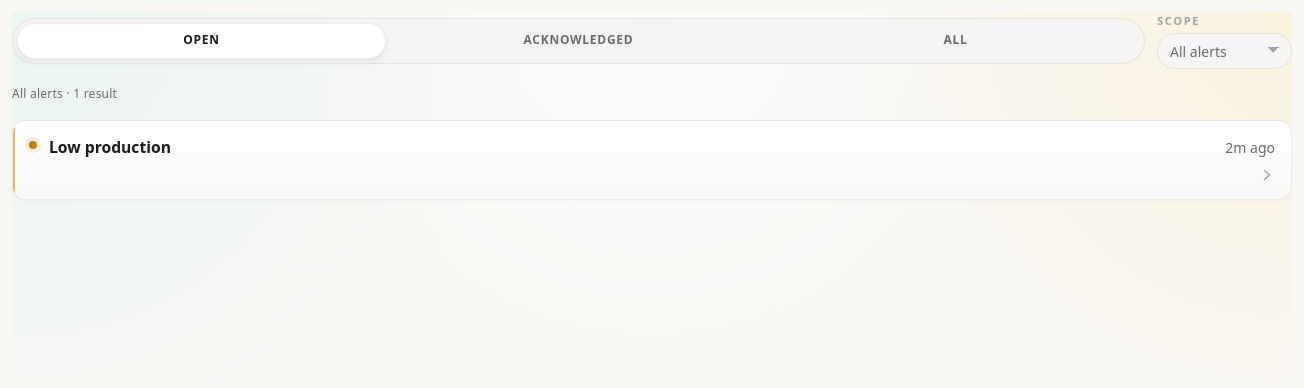
Test: AlertCenter › acknowledges an alert successfully and keeps the change after refetch
Click the element with test id "alert-card-201" at point(652, 160), box [12,120,1292,200]
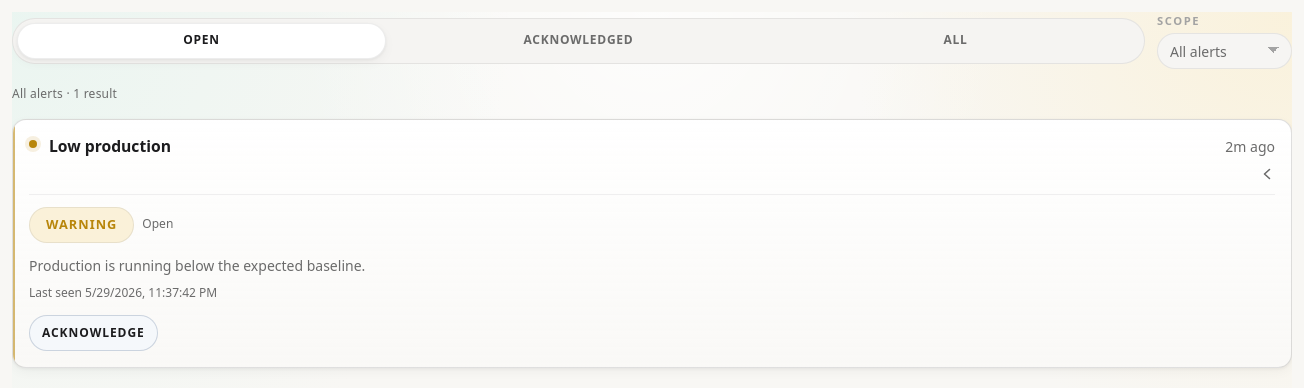
Click the button with test id "acknowledge-submit-button" at point(93, 333), box [29,315,158,351]
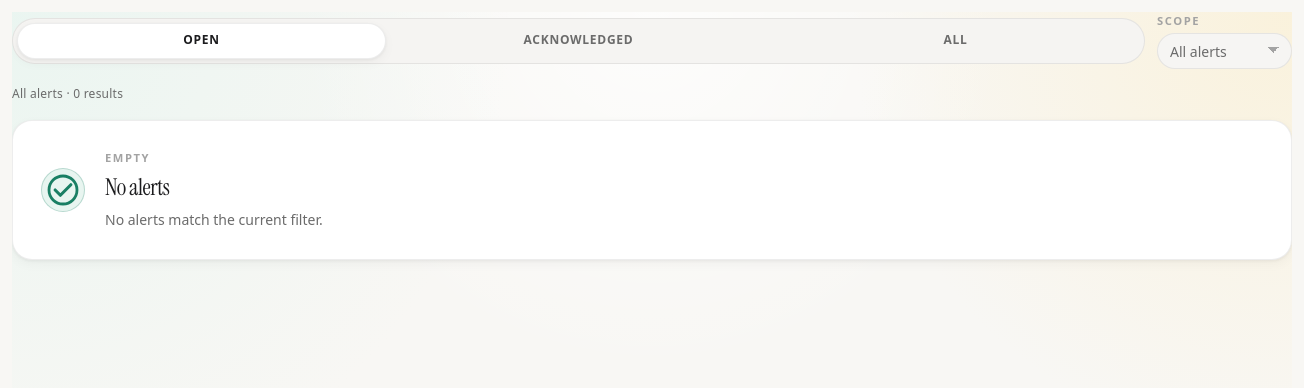
Now the button "Low production" is gone
Now the heading "No alerts" is shown, box [105,172,169,202]
Click the tab with test id "alert-filter-all" at point(956, 41), box [771,23,1140,59]
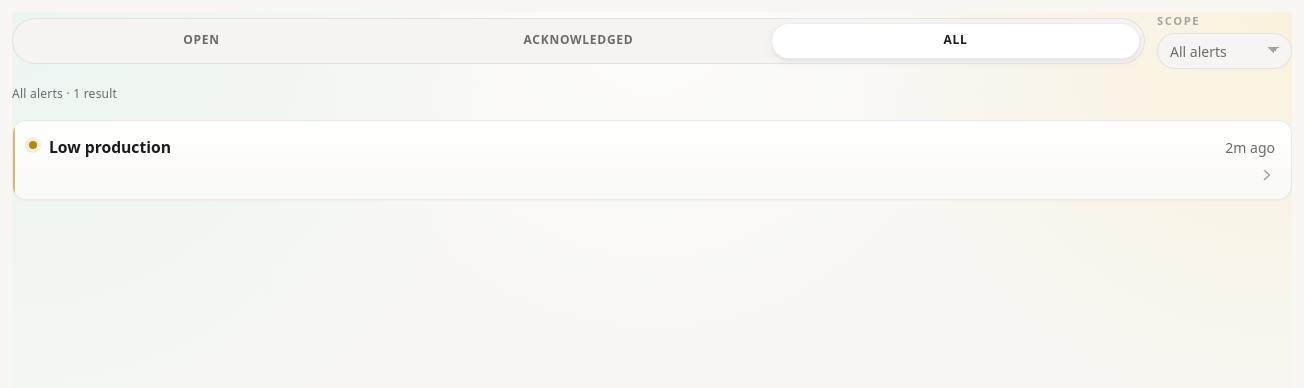
Now the element with test id "alert-card-201" shows "Low production", box [29,137,1275,183]
Click the element with test id "alert-card-201" at point(652, 160), box [12,120,1292,200]
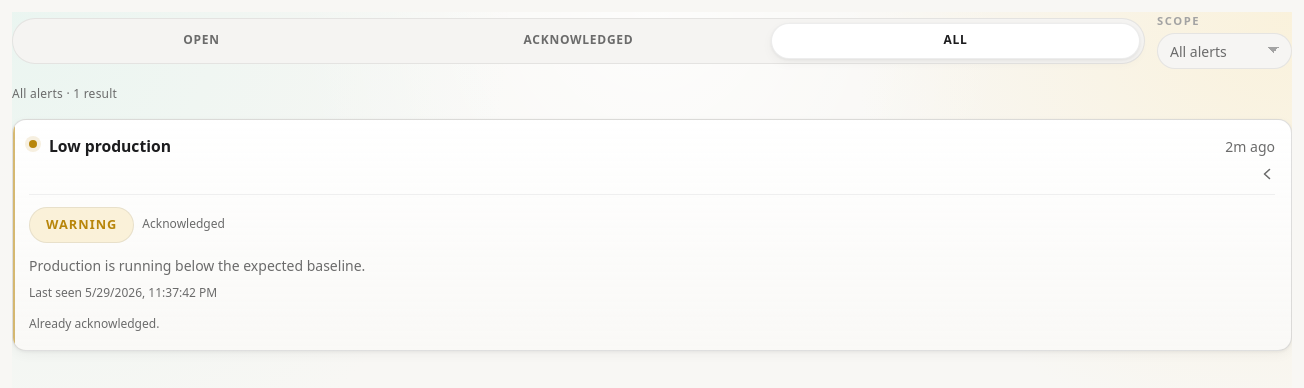
Now the text "Acknowledged" is shown, box [142,215,225,234]
